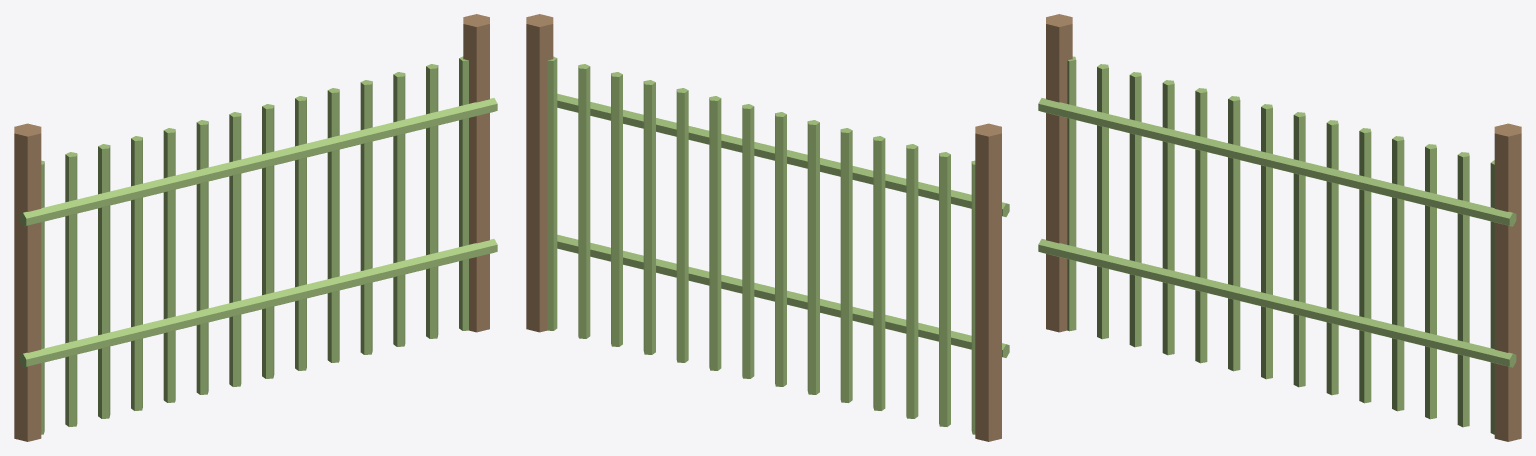
Rendered from take_gaki.glb.
3 renders of one model, left to right at view 1: azimuth 30°, elevation 25°; view 2: azimuth 150°, elevation 25°; view 3: azimuth 330°, elevation 25°, orthographic.
Visible parts, largest first — view 1: take_gaki; view 2: take_gaki; view 3: take_gaki.
Part boxes in pixels (<box>): take_gaki: <box>14,14,497,441</box>; take_gaki: <box>526,14,1009,441</box>; take_gaki: <box>1038,14,1521,441</box>.
Size of the model in its own units: 2.12 by 1.3 by 0.1279.
